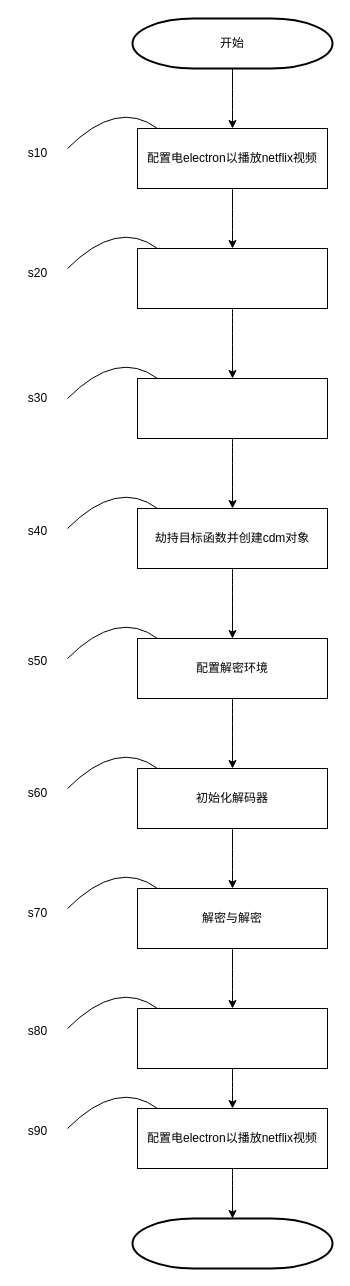
Some shapes in this 350 by 1286 pixel diagram are drawn without their labels. The centre of each missing label's shape, as x and y in pixels:
"以hook方法获取netflix下载清单信息" goes at (x=232, y=278).
"将解密后的数据重新编码" goes at (x=232, y=1038).
"结束" goes at (x=232, y=1243).
"配置keeper进程和sheller进程加载内容解密模块" goes at (x=232, y=408).
